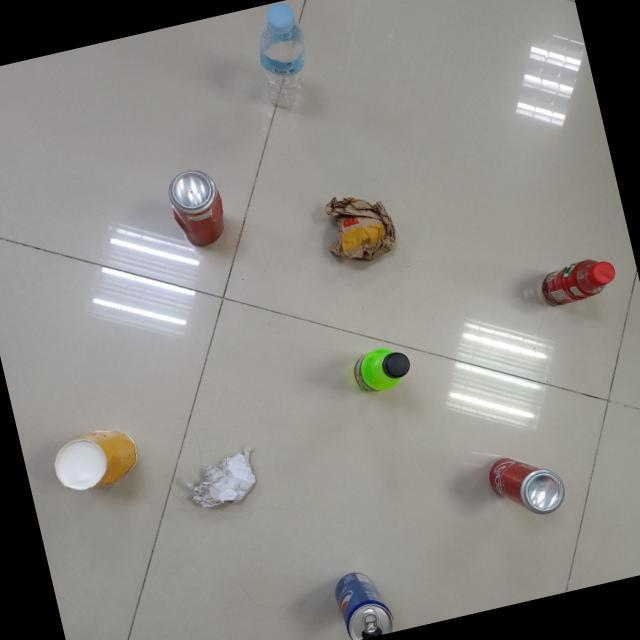recyclable waste: (242, 0, 326, 117), (44, 418, 148, 503), (314, 178, 406, 273), (158, 157, 238, 260), (478, 441, 572, 528), (168, 438, 269, 517), (530, 244, 626, 316), (339, 332, 424, 408), (323, 557, 400, 640)
